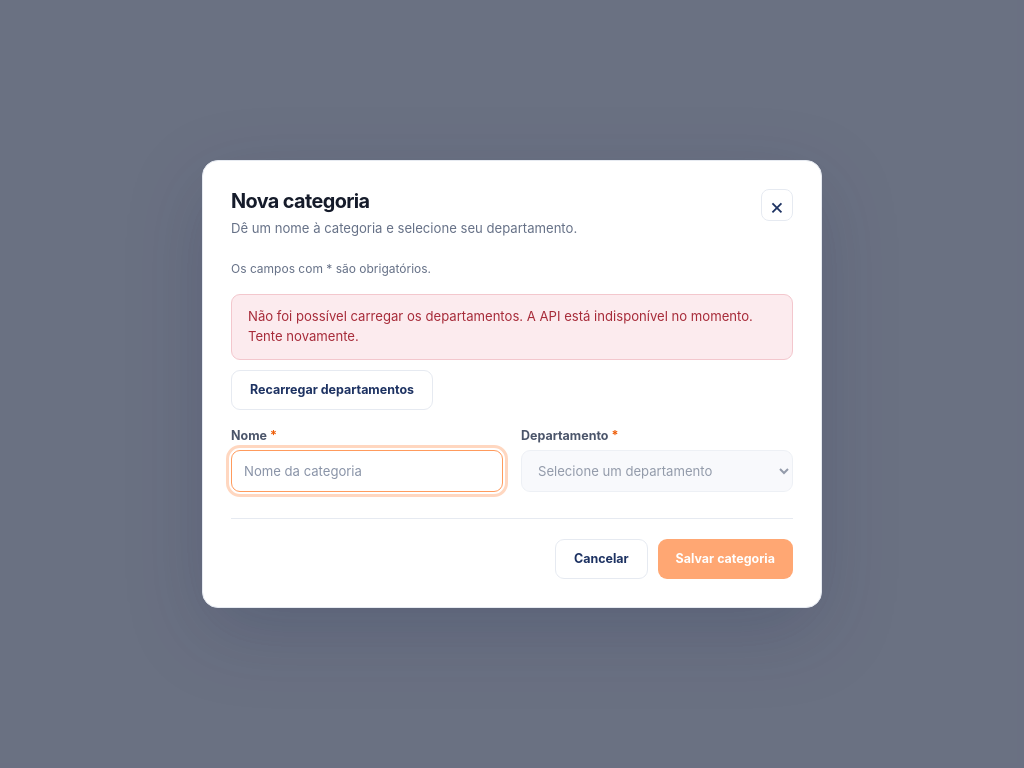
Scenario: retries department loading after server error
Expected: the button "Salvar categoria" is disabled, x1=658 y1=538 x2=793 y2=578
Expected: the message shows "Não foi possível carregar os departamentos.", x1=248 y1=308 x2=527 y2=324
What coordinates should you click on to do the following:
click the button "Recarregar departamentos"
I would click on:
 (332, 390)
Its box is x1=231 y1=370 x2=433 y2=410.
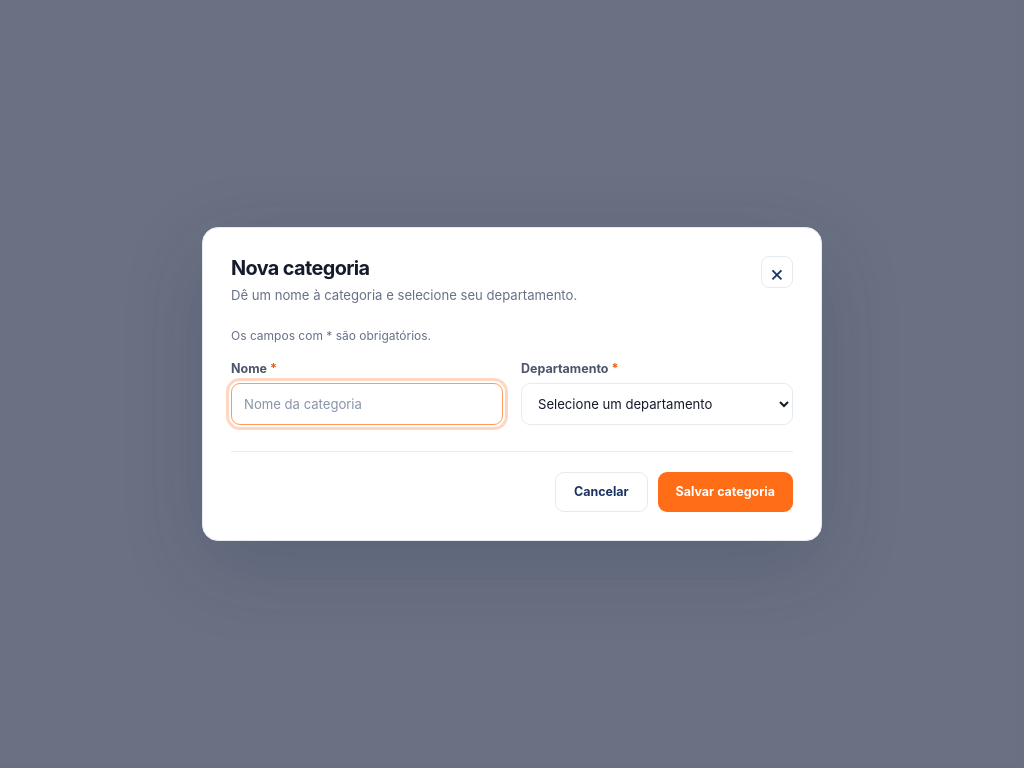
Expected: the button "Salvar categoria" is enabled, x1=658 y1=472 x2=793 y2=512
